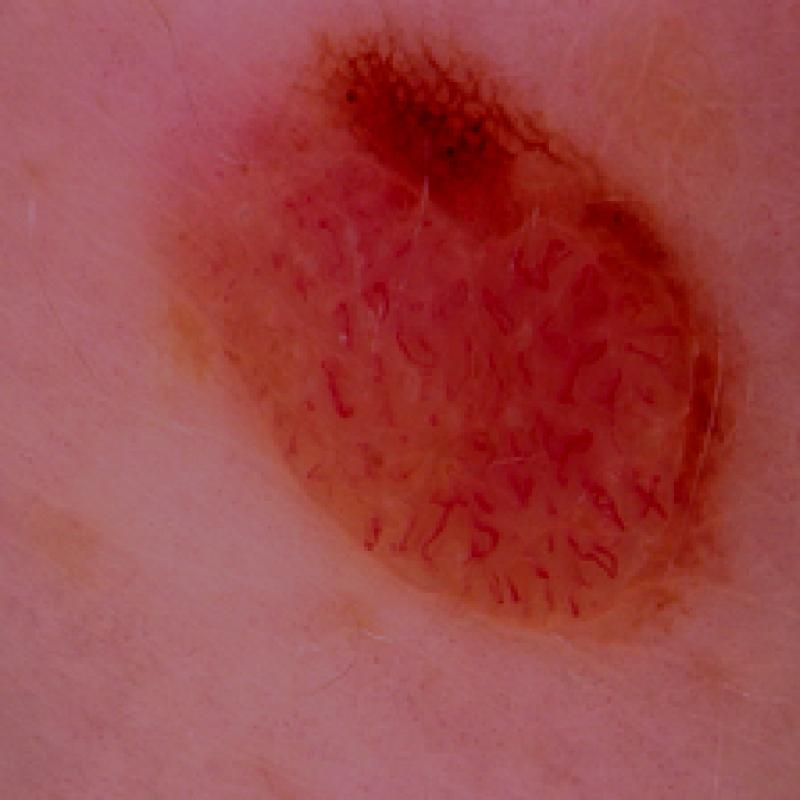benign: (170, 51, 759, 622)
